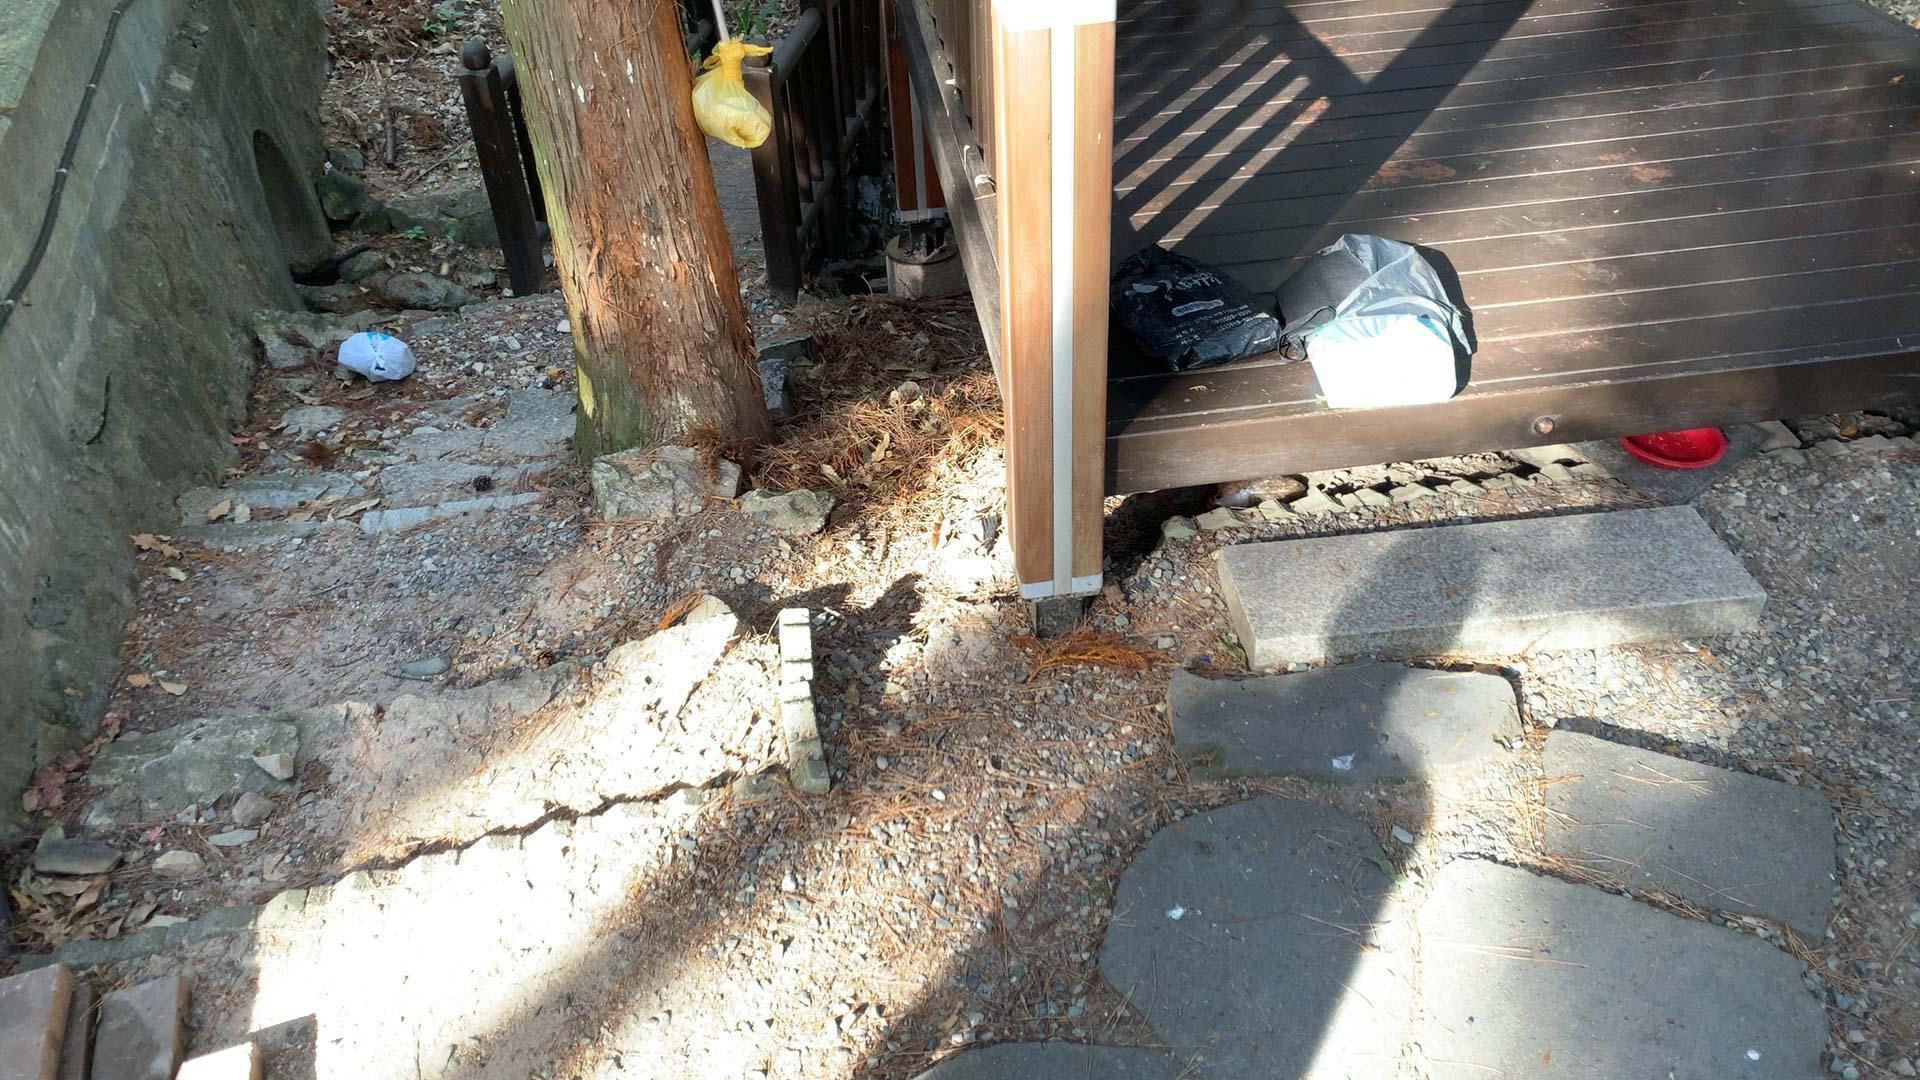white_bag: (334, 327, 422, 386)
